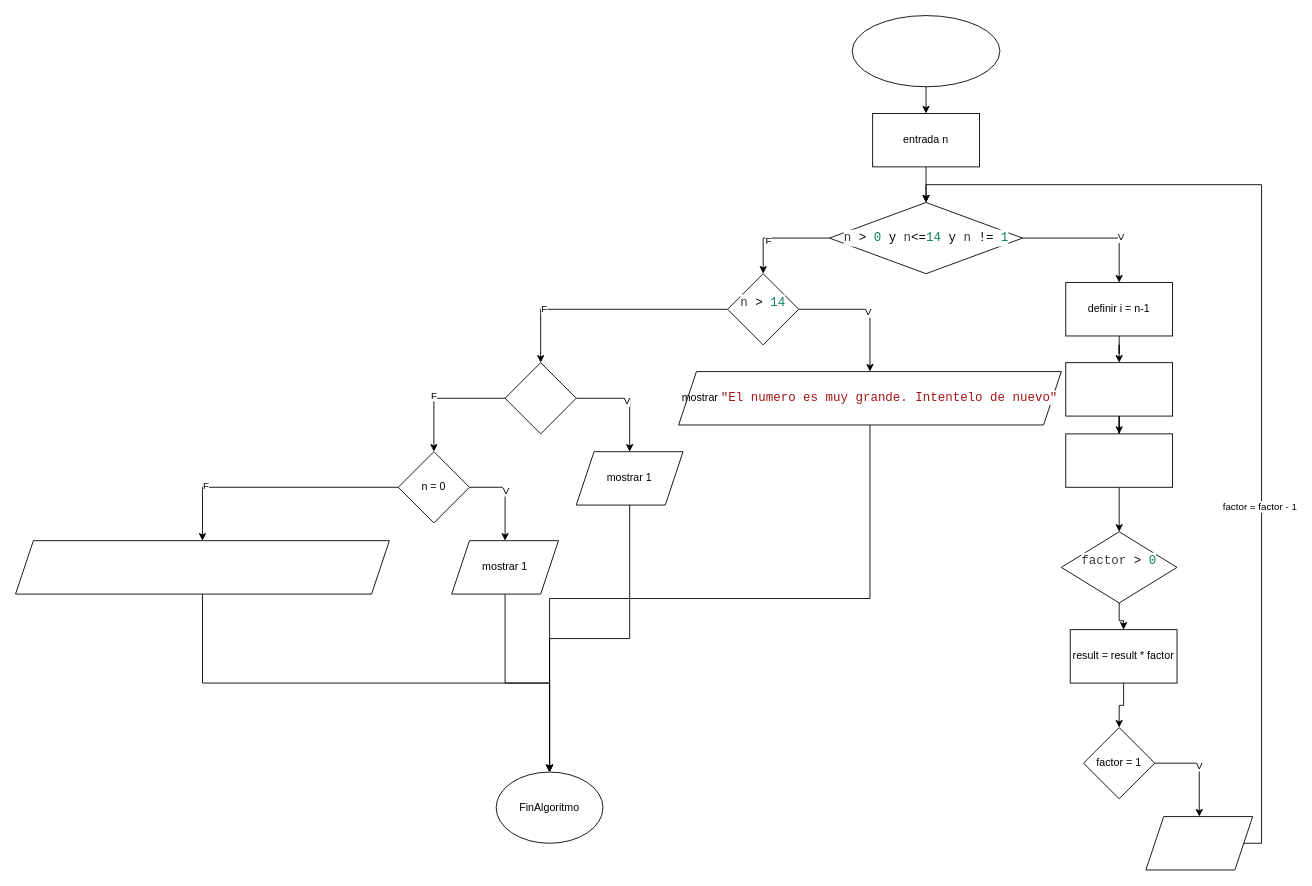
Image size: 1312x886. Some labels were removed from this diagram. The box of each missing label's shape, as (x1, y1, x2, y2) in pixels:
Algoritmo Practico 2 ejer 4: (851, 15, 1000, 87)
definir factor = i - 1: (1065, 433, 1173, 487)
definir result =n * i: (1065, 362, 1173, 416)
mostrar "El numero es negativo. Intentelo de nuevo": (15, 540, 389, 594)
mostrar result: (1145, 816, 1253, 870)
n = 1: (504, 362, 576, 434)
